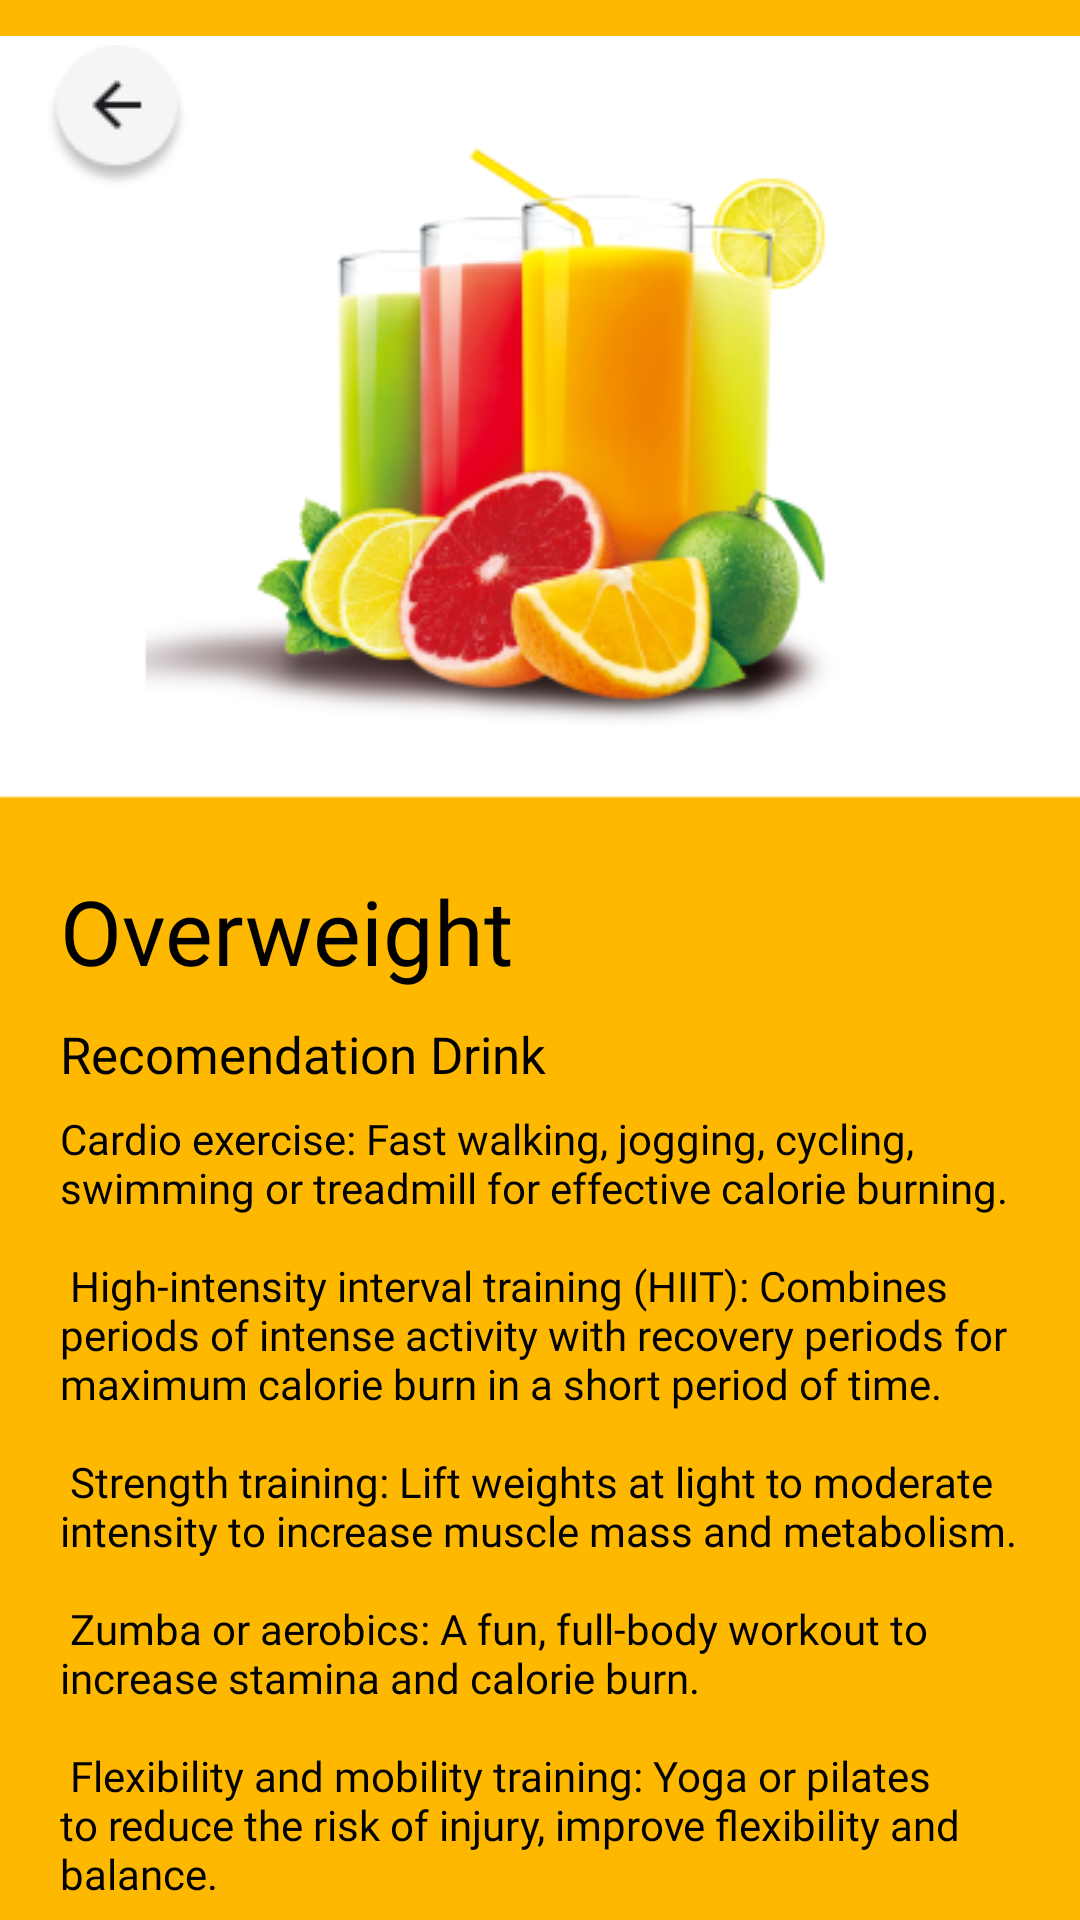

Named icons in this screenshot (1080w x 1920h) and their centers, [x,y]:
back: [117,114]
